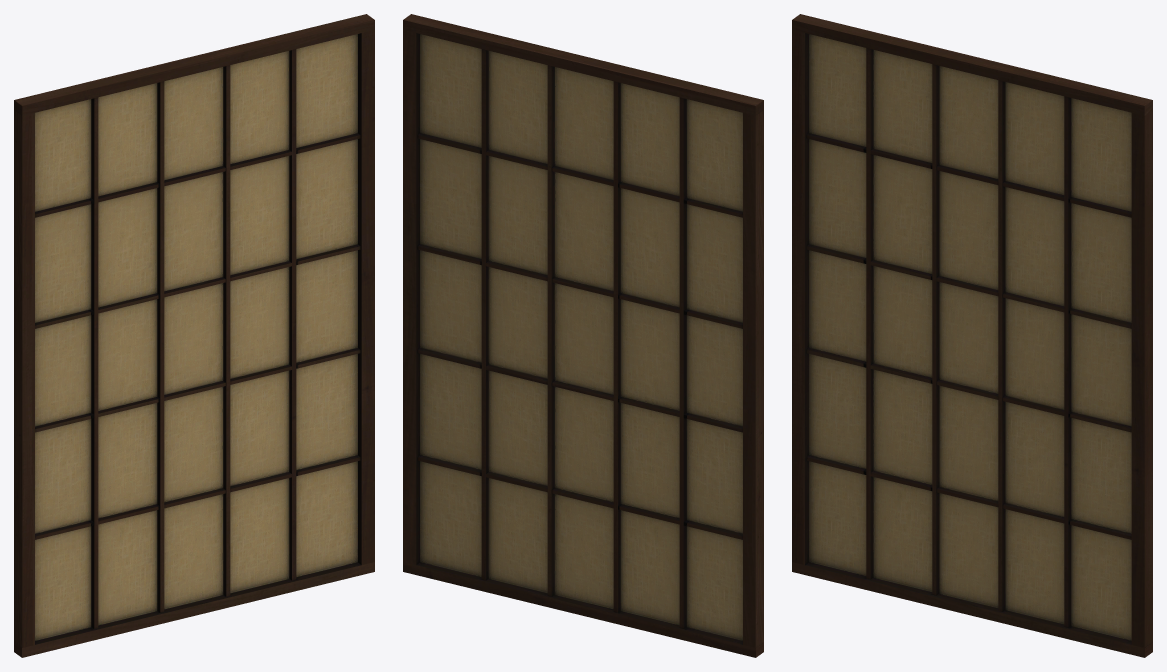
File: ShojiWall1.a.fbx
The picture shows the model from 3 angles, left to right: view 1: azimuth 30°, elevation 25°; view 2: azimuth 150°, elevation 25°; view 3: azimuth 330°, elevation 25°; orthographic projection.
Parts seen in each view (by area): view 1: Group 0; view 2: Group 0; view 3: Group 0.
Boxes of the visible parts, left/top/right/bottom form: Group 0: left=14, top=14, right=374, bottom=657; Group 0: left=403, top=14, right=763, bottom=657; Group 0: left=792, top=14, right=1152, bottom=657.
Bounding box in the file's own units: 200 × 299 × 7.96.
1 material, 1 textured.
